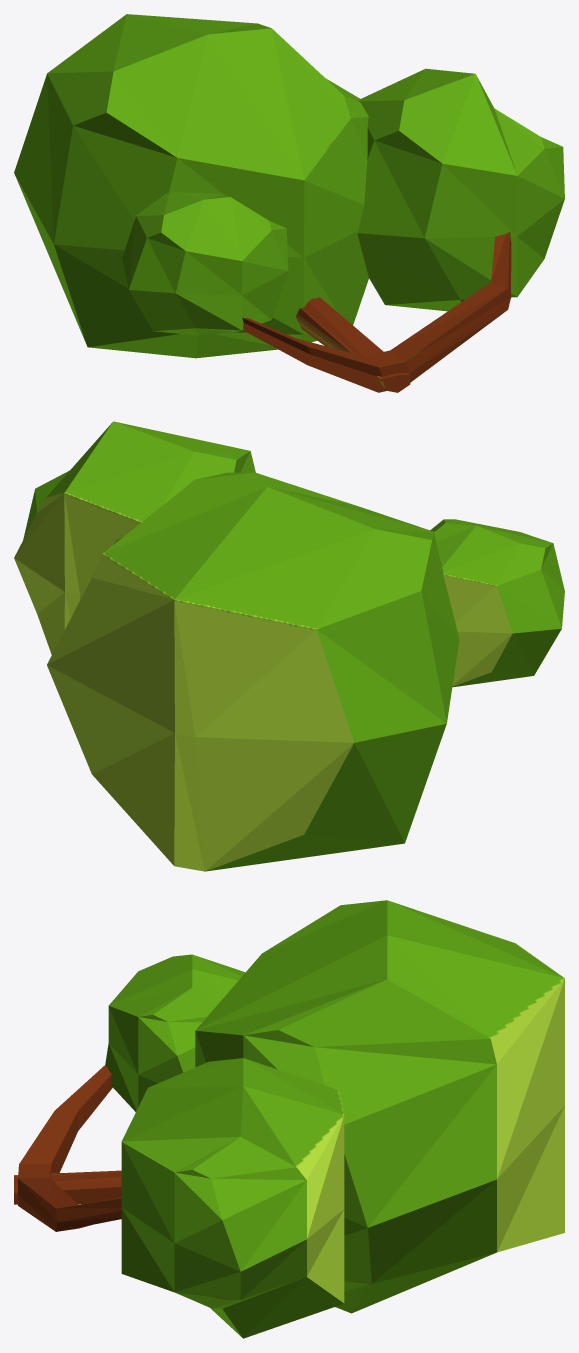
File: bush-02.obj
The picture shows the model from 3 angles, top to bottom: view 1: azimuth 30°, elevation 25°; view 2: azimuth 150°, elevation 25°; view 3: azimuth 270°, elevation 25°; orthographic projection. The views are drawn at different scales.
Parts seen in each view (by area): view 1: bush-02_Cube.029; view 2: bush-02_Cube.029; view 3: bush-02_Cube.029.
Part boxes in pixels (x1,y1,x2,y2): bush-02_Cube.029: [14, 14, 564, 392]; bush-02_Cube.029: [14, 421, 564, 871]; bush-02_Cube.029: [14, 900, 564, 1338].
Size of the model in its own units: 2.68 by 1.82 by 2.6.
